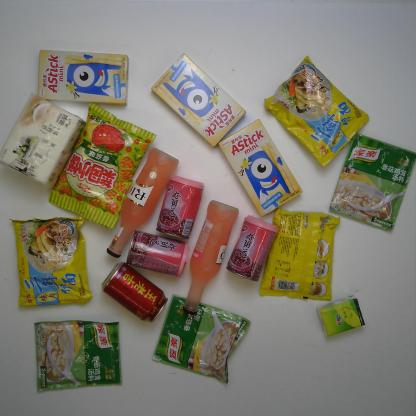Alcohol: (105, 146, 180, 259), (183, 199, 240, 316)
Canned Food: (224, 214, 280, 283), (125, 229, 192, 279), (156, 174, 206, 240)
Dessert: (150, 53, 247, 149), (218, 118, 304, 217), (37, 48, 130, 106)
Drink: (100, 261, 169, 323)
Instant Noodles: (263, 55, 370, 168), (258, 206, 342, 302), (8, 216, 94, 308)
Puffed Food: (48, 102, 158, 230)
Seasoner: (151, 293, 252, 385), (329, 132, 415, 231), (33, 318, 123, 392)
Tissue: (0, 92, 87, 189), (316, 295, 366, 338)
